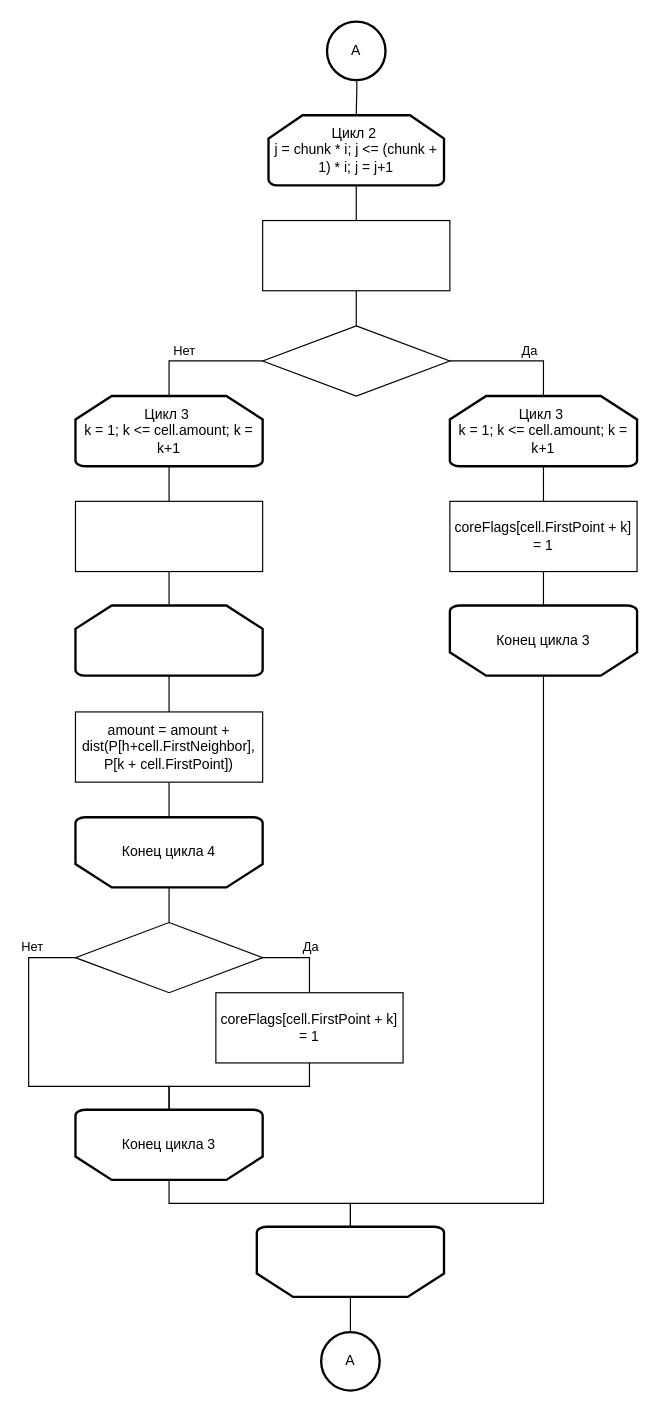
Some shapes in this 658 by 1411 pixel diagram are drawn without their labels. Here are the shapes that lost their labels. From the top down, the centre of each, then its label:
point 355,255: cell = G[i]
point 355,360: len(cell) >= MinPt?
point 168,536: amount = cell.amount
point 168,640: Цикл 4 h = 0; h <= cell.NeighborsAmount; h = h+1
point 168,957: amount >= MinPt?
point 350,1261: Конец цикла 2
